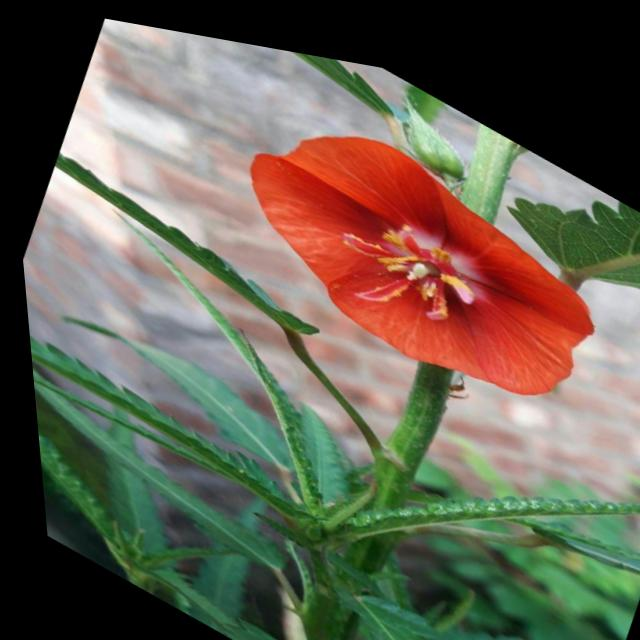Flower: (206, 61, 628, 437)
